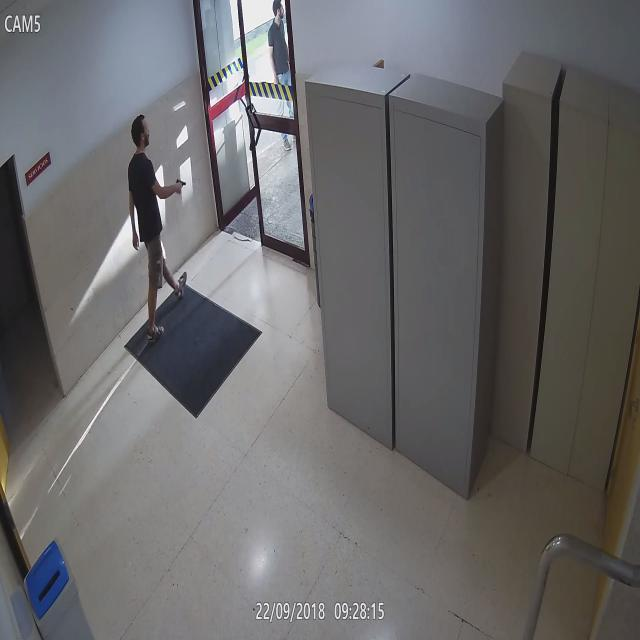Gun: (173, 176, 186, 194)
